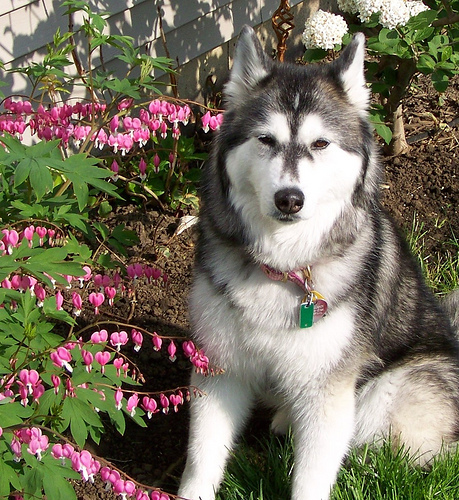dog: (180, 21, 457, 498)
